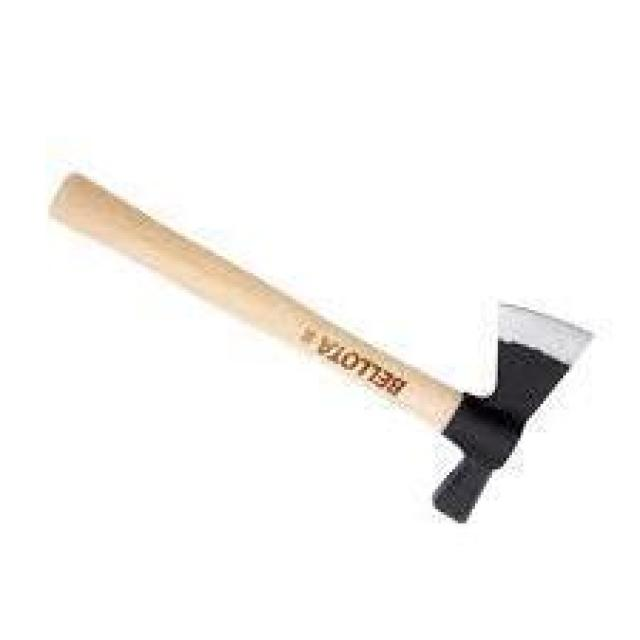Kapak: (48, 155, 614, 556)
